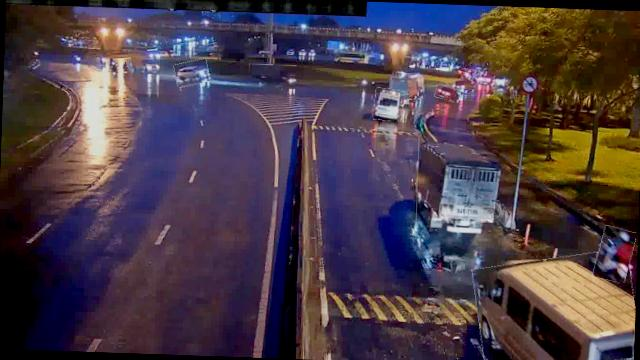Bike: (595, 226, 634, 283)
Bus: (472, 249, 637, 360), (373, 89, 404, 122)
Car: (173, 60, 210, 88), (435, 86, 461, 103)
Truck: (416, 137, 498, 240), (248, 64, 297, 88), (392, 75, 424, 101)
